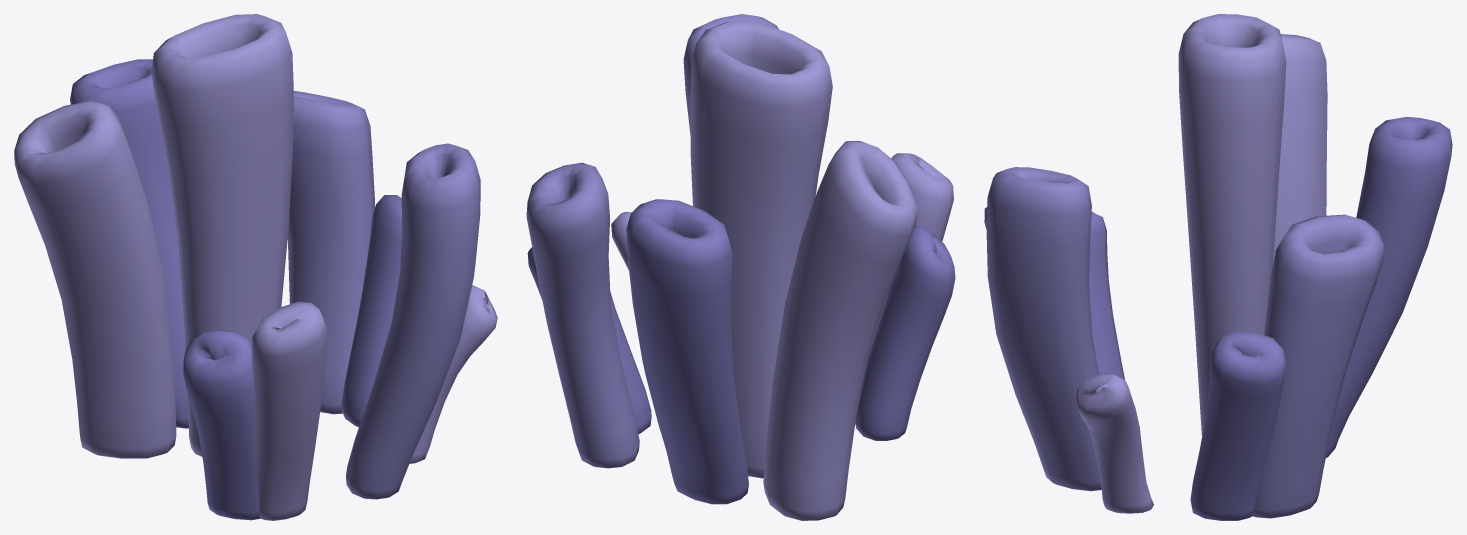
Rendered from Coral_D_02.fbx.
3 views of the same model, side by side, from view 1: azimuth 30°, elevation 25°; view 2: azimuth 150°, elevation 25°; view 3: azimuth 270°, elevation 25° (orthographic). The views are drawn at different scales.
Visible parts, largest first — view 1: Coral_D_02_LOD0; view 2: Coral_D_02_LOD0; view 3: Coral_D_02_LOD0.
Boxes of the visible parts, box(x1,y1,x2,y2) form: Coral_D_02_LOD0: box(14, 14, 497, 520); Coral_D_02_LOD0: box(526, 14, 955, 520); Coral_D_02_LOD0: box(984, 14, 1452, 520).
Size of what is drawn, in the model's own units: 420 by 435 by 440.
